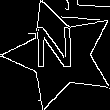N_S: (39, 29, 82, 80)
